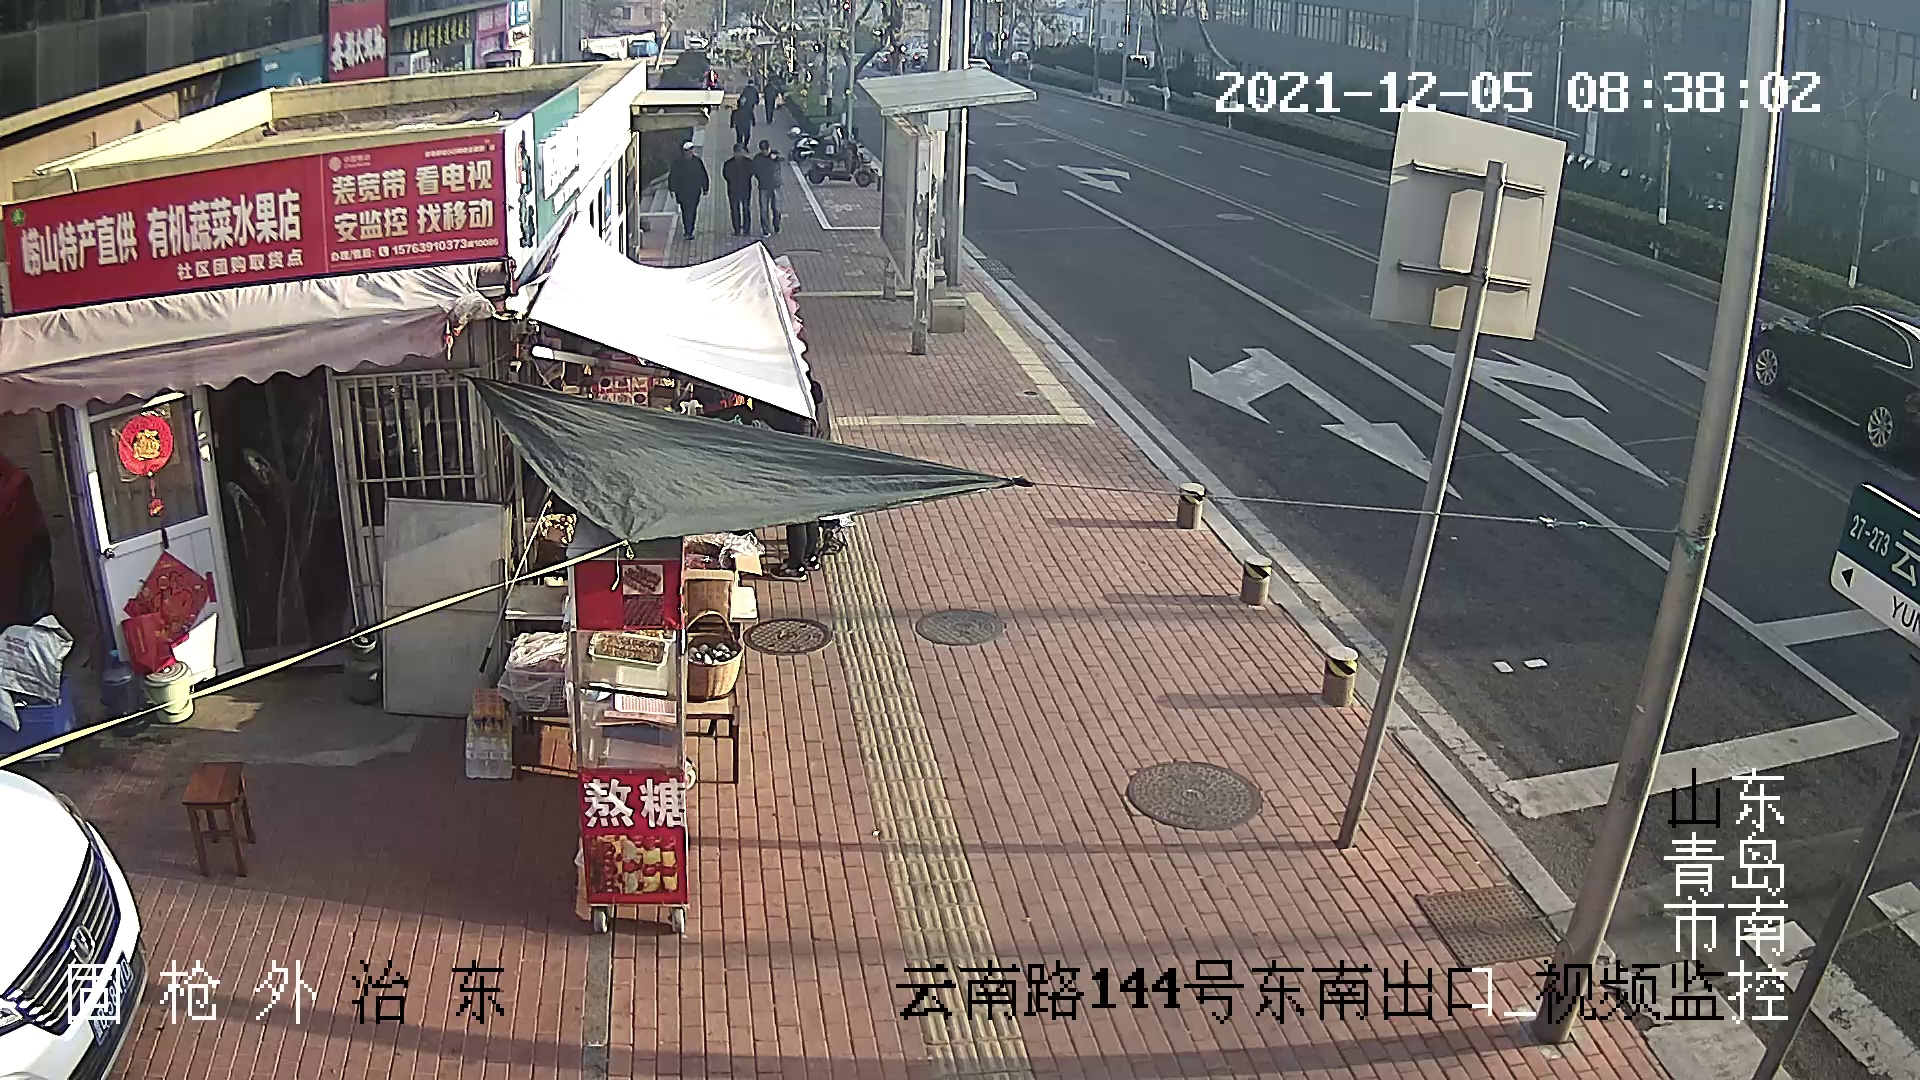chair: (179, 760, 257, 878)
